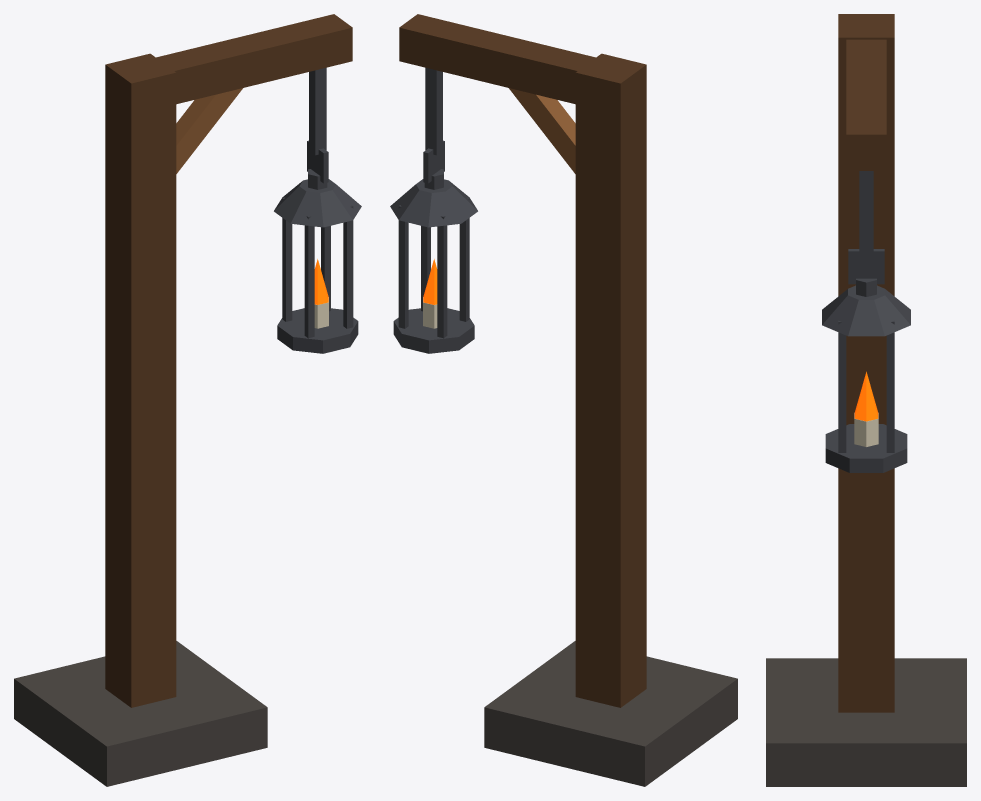
File: mine_lantern_post.glb
3 views of the same model, side by side, from view 1: azimuth 30°, elevation 25°; view 2: azimuth 150°, elevation 25°; view 3: azimuth 270°, elevation 25° (orthographic). The views are drawn at different scales.
Parts seen in each view (by area): view 1: mine_lantern_post; view 2: mine_lantern_post; view 3: mine_lantern_post.
Boxes of the visible parts, x1,y1,x2,y2 form: mine_lantern_post: (14, 14, 361, 786); mine_lantern_post: (390, 14, 737, 786); mine_lantern_post: (766, 14, 966, 786).
Size of what is drawn, in the model's own units: 0.9109 by 1.98 by 0.5.
